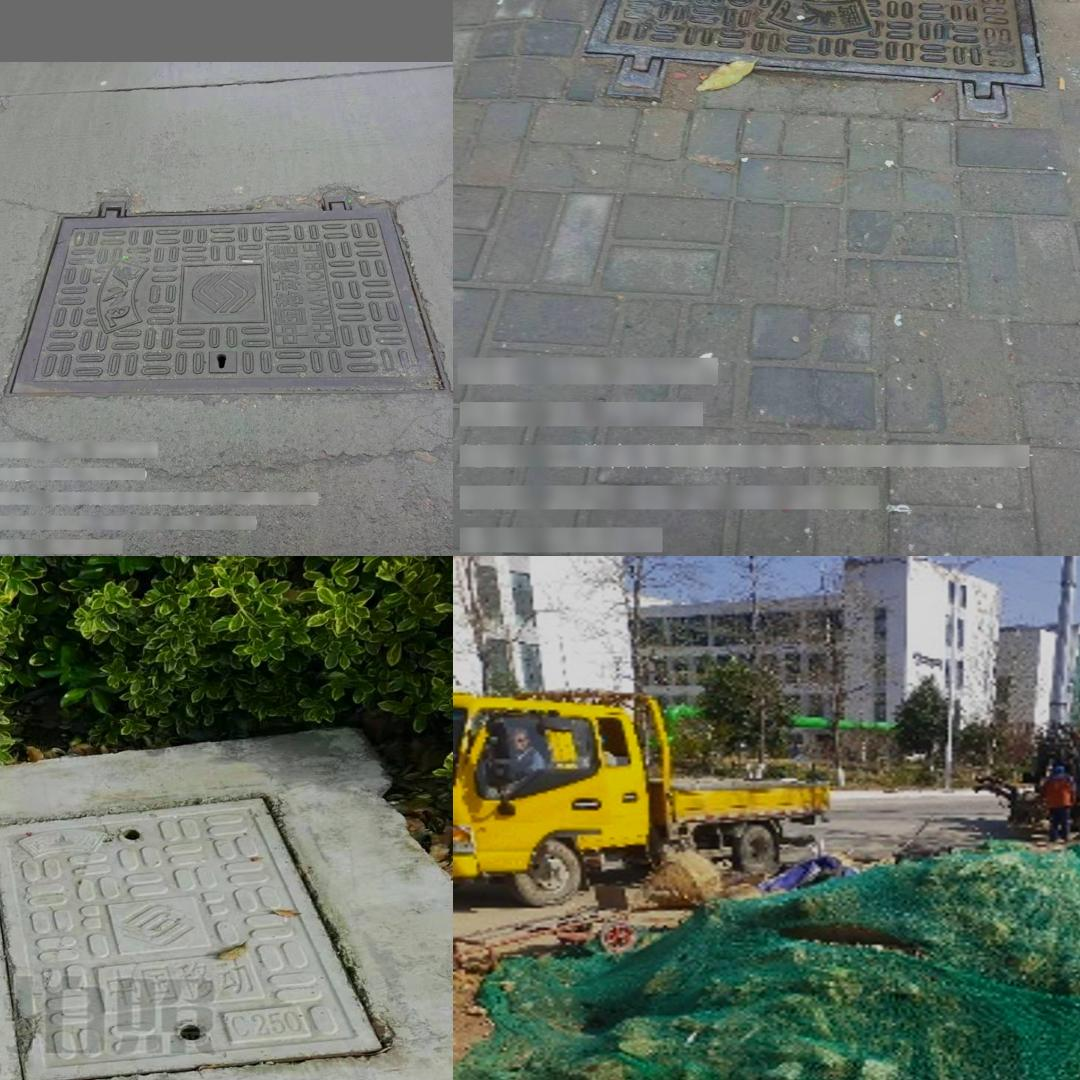good: (0, 790, 387, 1080), (5, 194, 453, 396), (624, 0, 1033, 94)
